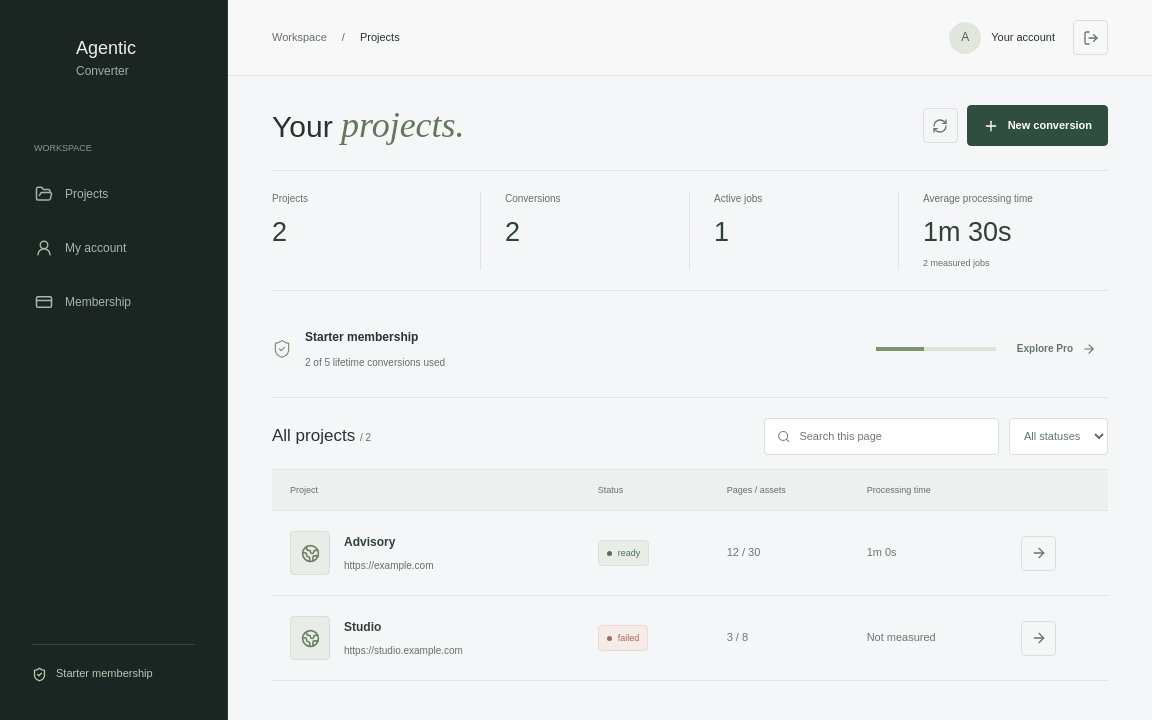
Scenario: Project workspace › filters current-page project status and clears all filters from the empty state
Select "Failed" in the dropdown at point(1058, 436), box [1009, 418, 1108, 455]
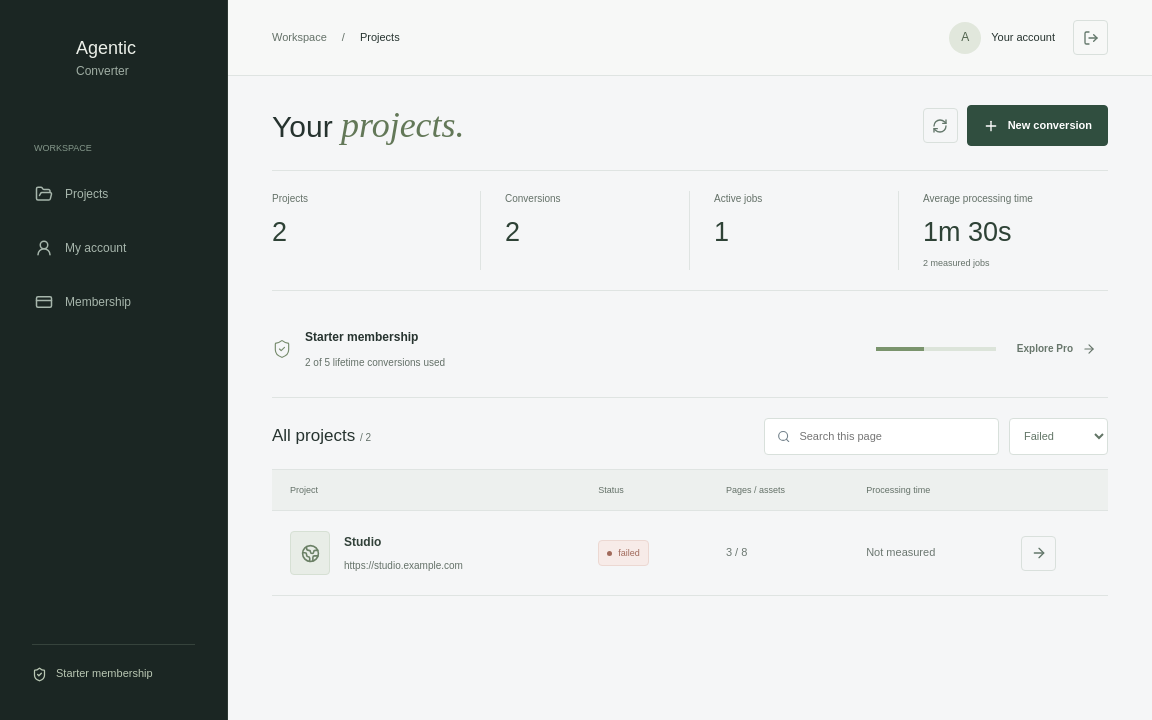
Check: the link "Advisory https" is gone
Type "no match" into the field named "Search projects" at point(893, 436), box [799, 430, 986, 442]
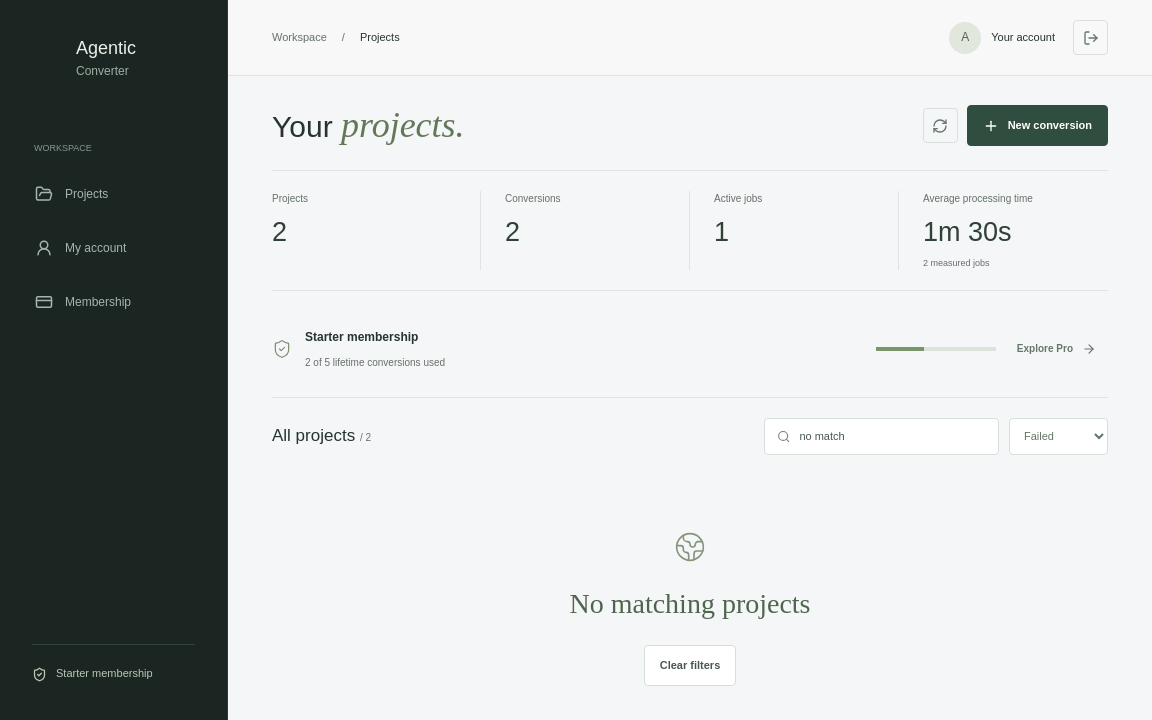
Click the button "Clear filters" at point(690, 665), box [644, 645, 736, 686]
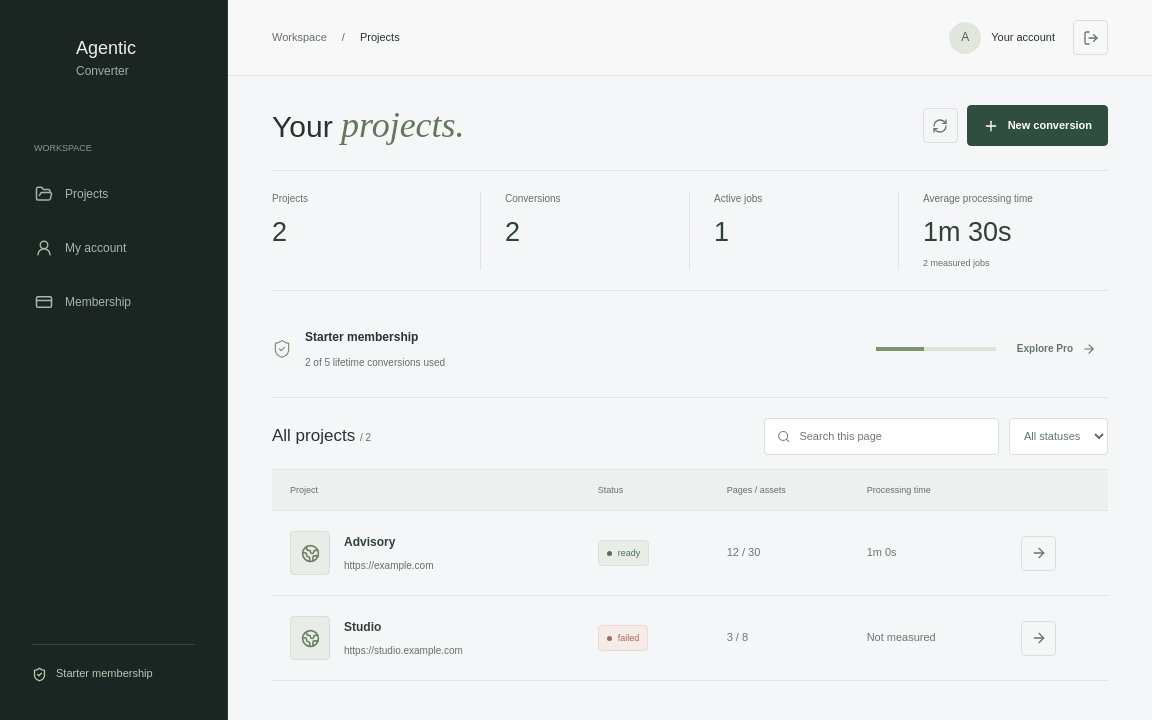
Check: the field named "Search projects" is empty, box [799, 430, 986, 442]
Check: the text "Advisory" is shown, box [344, 535, 395, 549]
